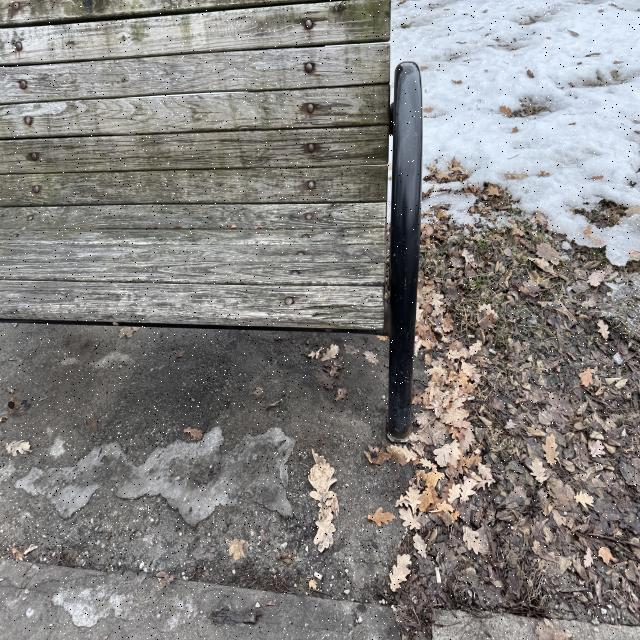Bench: (3, 2, 425, 397)
